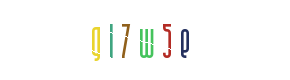1: (97, 0, 177, 80)
5: (111, 0, 191, 80)
7: (105, 0, 185, 80)
E: (144, 0, 224, 80)
G: (56, 0, 136, 80)
W: (107, 0, 187, 80)
